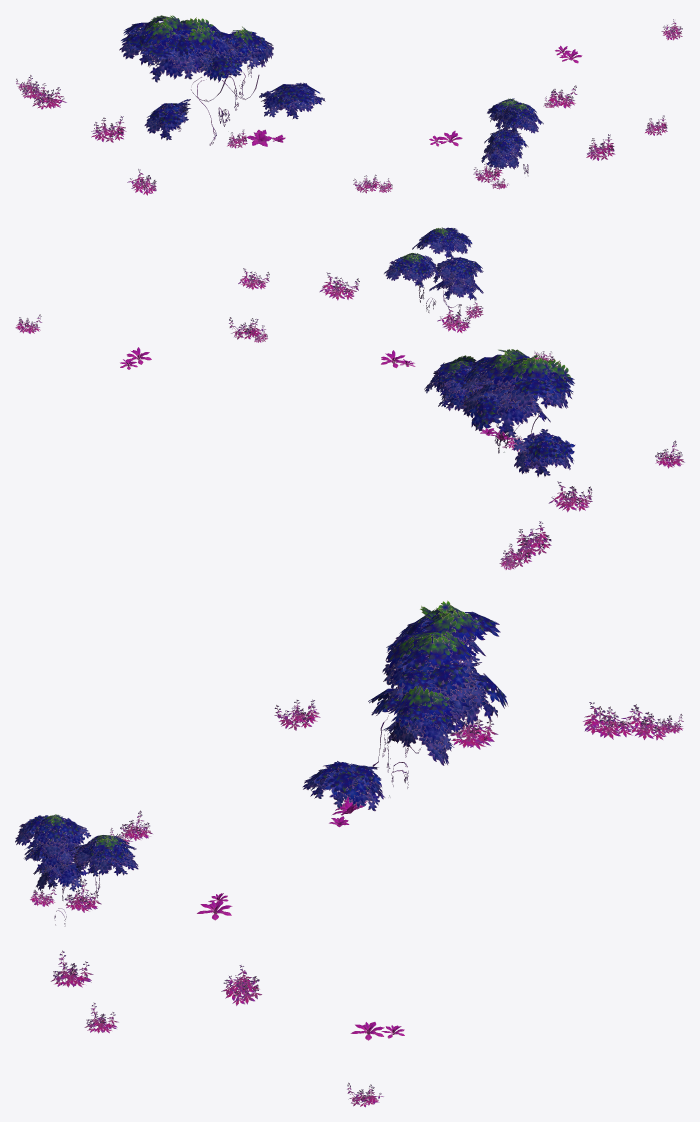
The model's file is zhibei6_1.fbx.
The picture shows the model from 3 angles, top to bottom: view 1: azimuth 30°, elevation 25°; view 2: azimuth 150°, elevation 25°; view 3: azimuth 270°, elevation 25°; orthographic projection. The views are drawn at different scales.
Visible parts, largest first — view 1: zhibei6_1; view 2: zhibei6_1; view 3: zhibei6_1.
Part boxes in pixels (bbox=[...]): zhibei6_1: bbox=[16, 15, 682, 195]; zhibei6_1: bbox=[15, 227, 684, 569]; zhibei6_1: bbox=[15, 600, 683, 1107].
Bounding box in the file's own units: 6688 × 1338 × 4753.
